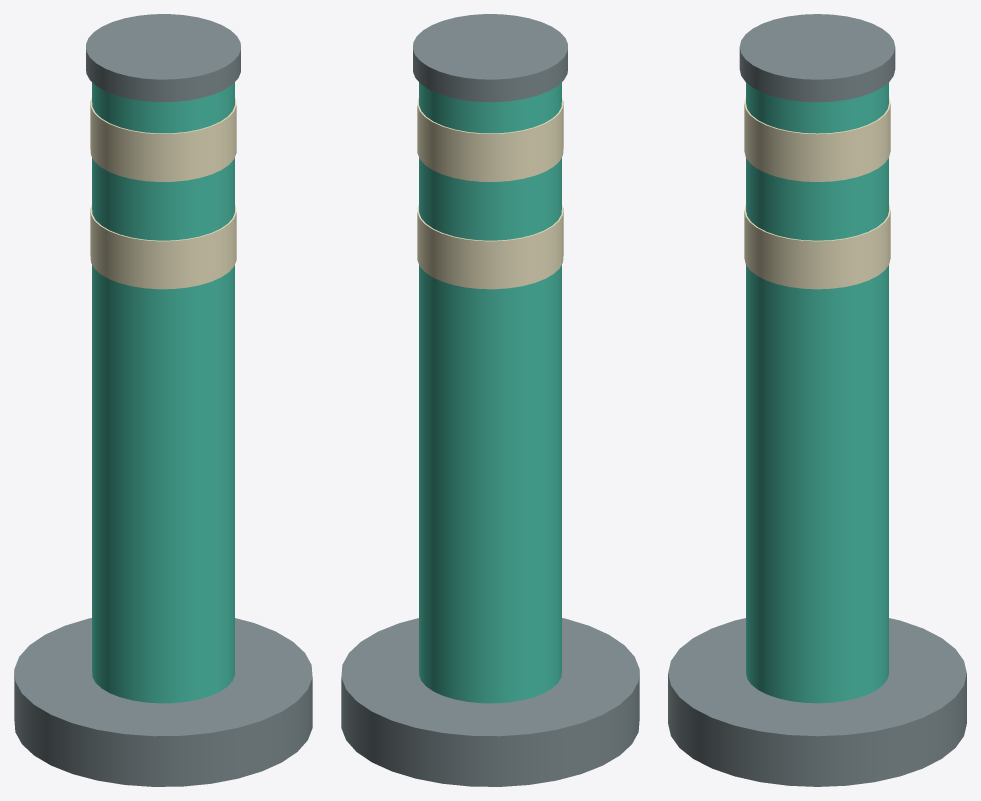
File: sample-bollard.glb
3 renders of one model, left to right at view 1: azimuth 30°, elevation 25°; view 2: azimuth 150°, elevation 25°; view 3: azimuth 270°, elevation 25°, orthographic.
Parts seen in each view (by area): view 1: Teal body, Weighted base, Metal cap, Lower reflector, Upper reflector; view 2: Teal body, Weighted base, Metal cap, Lower reflector, Upper reflector; view 3: Teal body, Weighted base, Metal cap, Lower reflector, Upper reflector.
Boxes of the visible parts, bbox=[...] form: Teal body: bbox=[92, 82, 234, 703]; Weighted base: bbox=[14, 618, 312, 786]; Metal cap: bbox=[86, 14, 240, 102]; Lower reflector: bbox=[90, 205, 236, 289]; Upper reflector: bbox=[90, 98, 236, 181]; Teal body: bbox=[419, 82, 561, 703]; Weighted base: bbox=[341, 618, 639, 786]; Metal cap: bbox=[413, 14, 567, 102]; Lower reflector: bbox=[417, 205, 563, 289]; Upper reflector: bbox=[417, 98, 563, 181]; Teal body: bbox=[746, 82, 888, 703]; Weighted base: bbox=[668, 618, 966, 786]; Metal cap: bbox=[739, 14, 895, 102]; Lower reflector: bbox=[744, 204, 890, 289]; Upper reflector: bbox=[744, 97, 890, 181].
Size of the model in its own units: 0.96 by 2.4 by 0.96.
